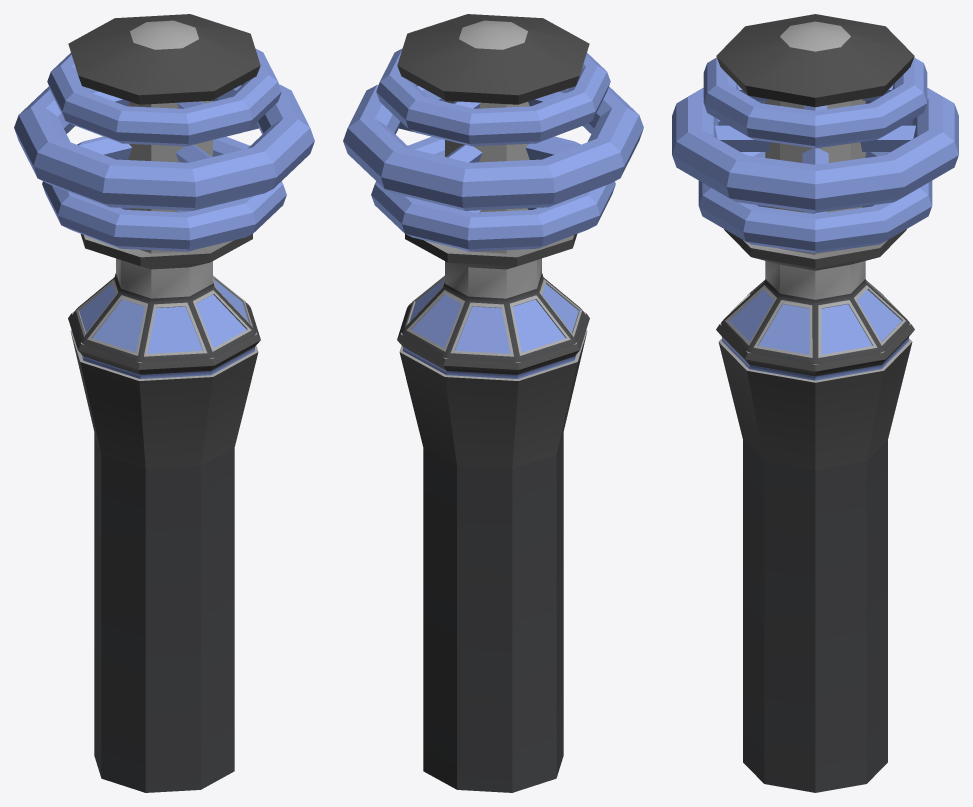
The model's file is Tesla Tower.fbx.
The picture shows the model from 3 angles, left to right: view 1: azimuth 30°, elevation 25°; view 2: azimuth 150°, elevation 25°; view 3: azimuth 270°, elevation 25°; orthographic projection.
Visible parts, largest first — view 1: pCylinder36; view 2: pCylinder36; view 3: pCylinder36.
Boxes of the visible parts, x1,y1,x2,y2 form: pCylinder36: (14,14,314,792); pCylinder36: (343,14,643,792); pCylinder36: (672,14,958,792).
Bounding box in the file's own units: 598 × 1601 × 569.
